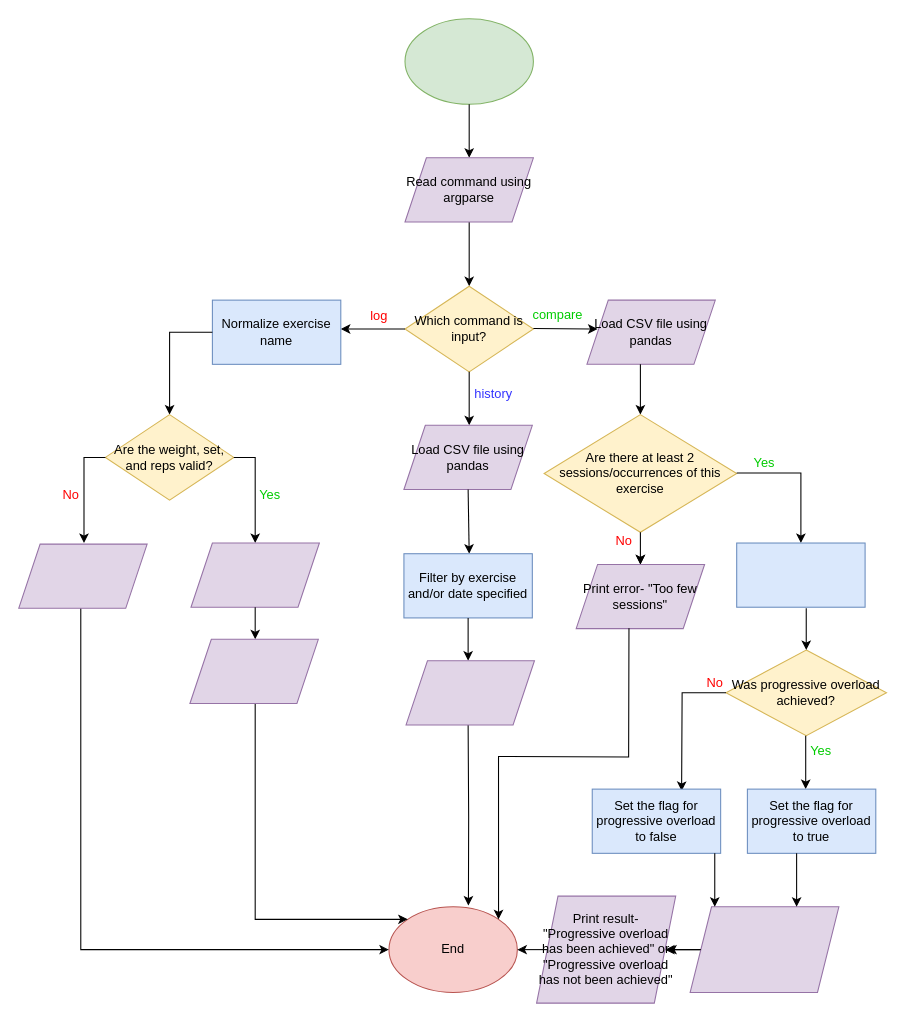
Image size: 905x1022. Some labels were removed from this diagram. The shapes that lost their labels are listed below. From the top down, each one's centre as x and y in pixels, then its label:
point 468,61: User runs command with python tracker.py
point 82,575: Print error- "Invalid information"
point 254,574: Append set data to CSV file using pandas
point 800,574: Compute metrics (set volume, top weight)
point 253,671: Print confirmation- "Set logged"
point 469,692: Print past sessions in accordance with filter
point 764,949: Update progressive overload flag to set data in CSV via pandas
